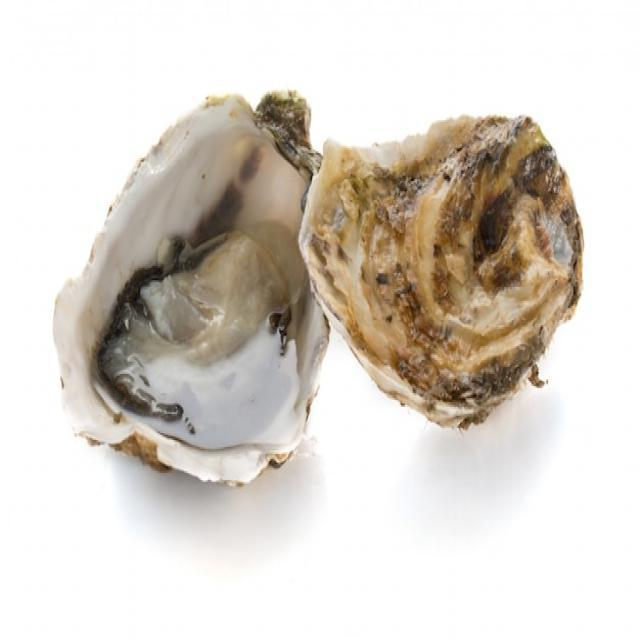Oyster- Indeterminate: (278, 95, 619, 457)
Oyster-Open: (41, 89, 338, 497)
